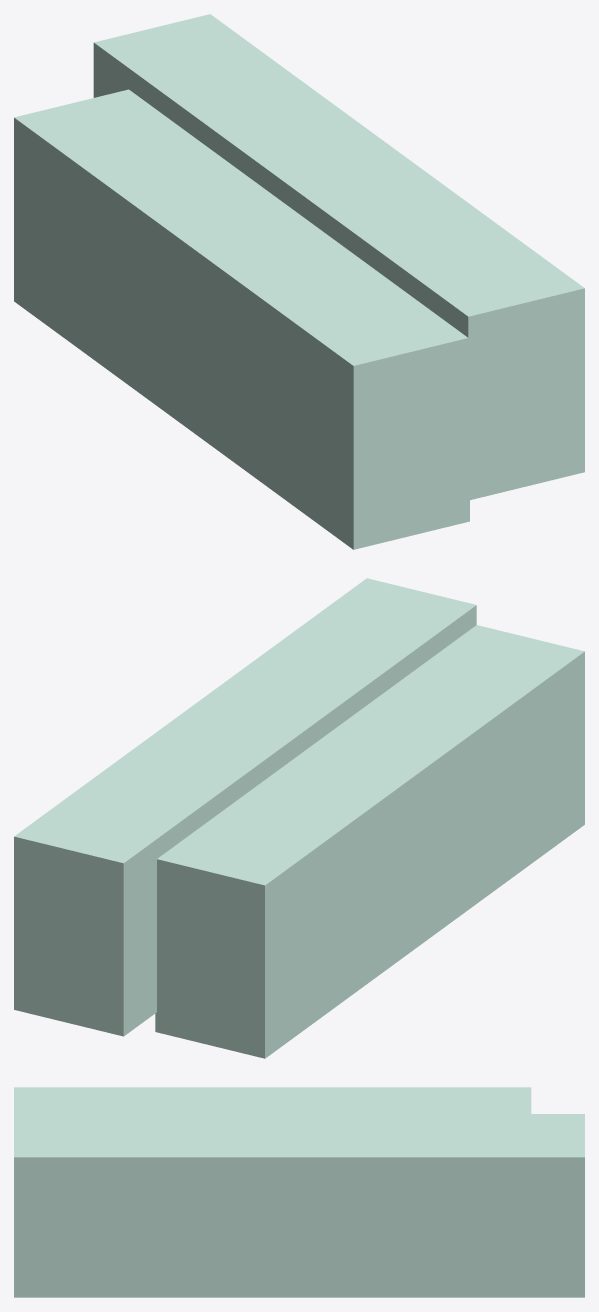
The picture shows the model from 3 angles, top to bottom: view 1: azimuth 30°, elevation 25°; view 2: azimuth 150°, elevation 25°; view 3: azimuth 270°, elevation 25°; orthographic projection. The views are drawn at different scales.
Parts seen in each view (by area): view 1: Renderer Node; view 2: Renderer Node; view 3: Renderer Node.
Boxes of the visible parts, left/top/right/bottom form: Renderer Node: left=14, top=14, right=584, bottom=549; Renderer Node: left=14, top=578, right=584, bottom=1058; Renderer Node: left=14, top=1087, right=584, bottom=1297.
Size of the model in its own units: 0.2675 by 0.2266 by 0.75.
